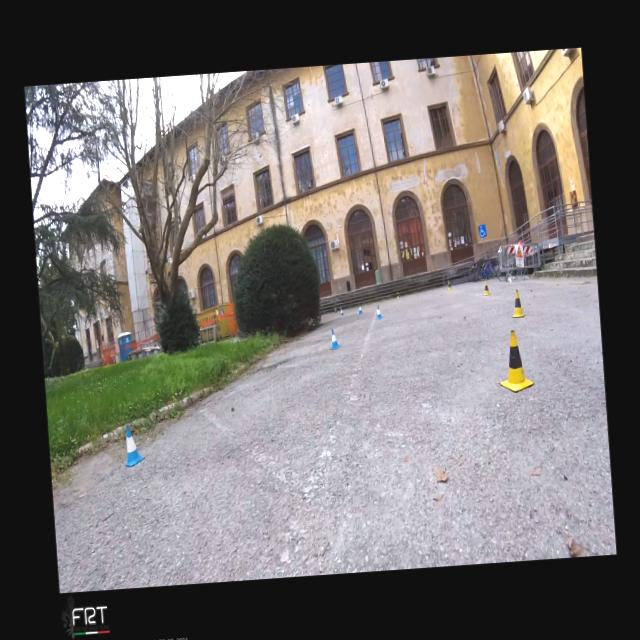blue_cone: (122, 424, 146, 467), (328, 328, 341, 350), (375, 305, 383, 319), (358, 304, 363, 314), (340, 308, 344, 316)
yellow_cone: (496, 328, 534, 394), (510, 288, 526, 318), (482, 282, 490, 296), (447, 280, 452, 290), (396, 290, 400, 298)
